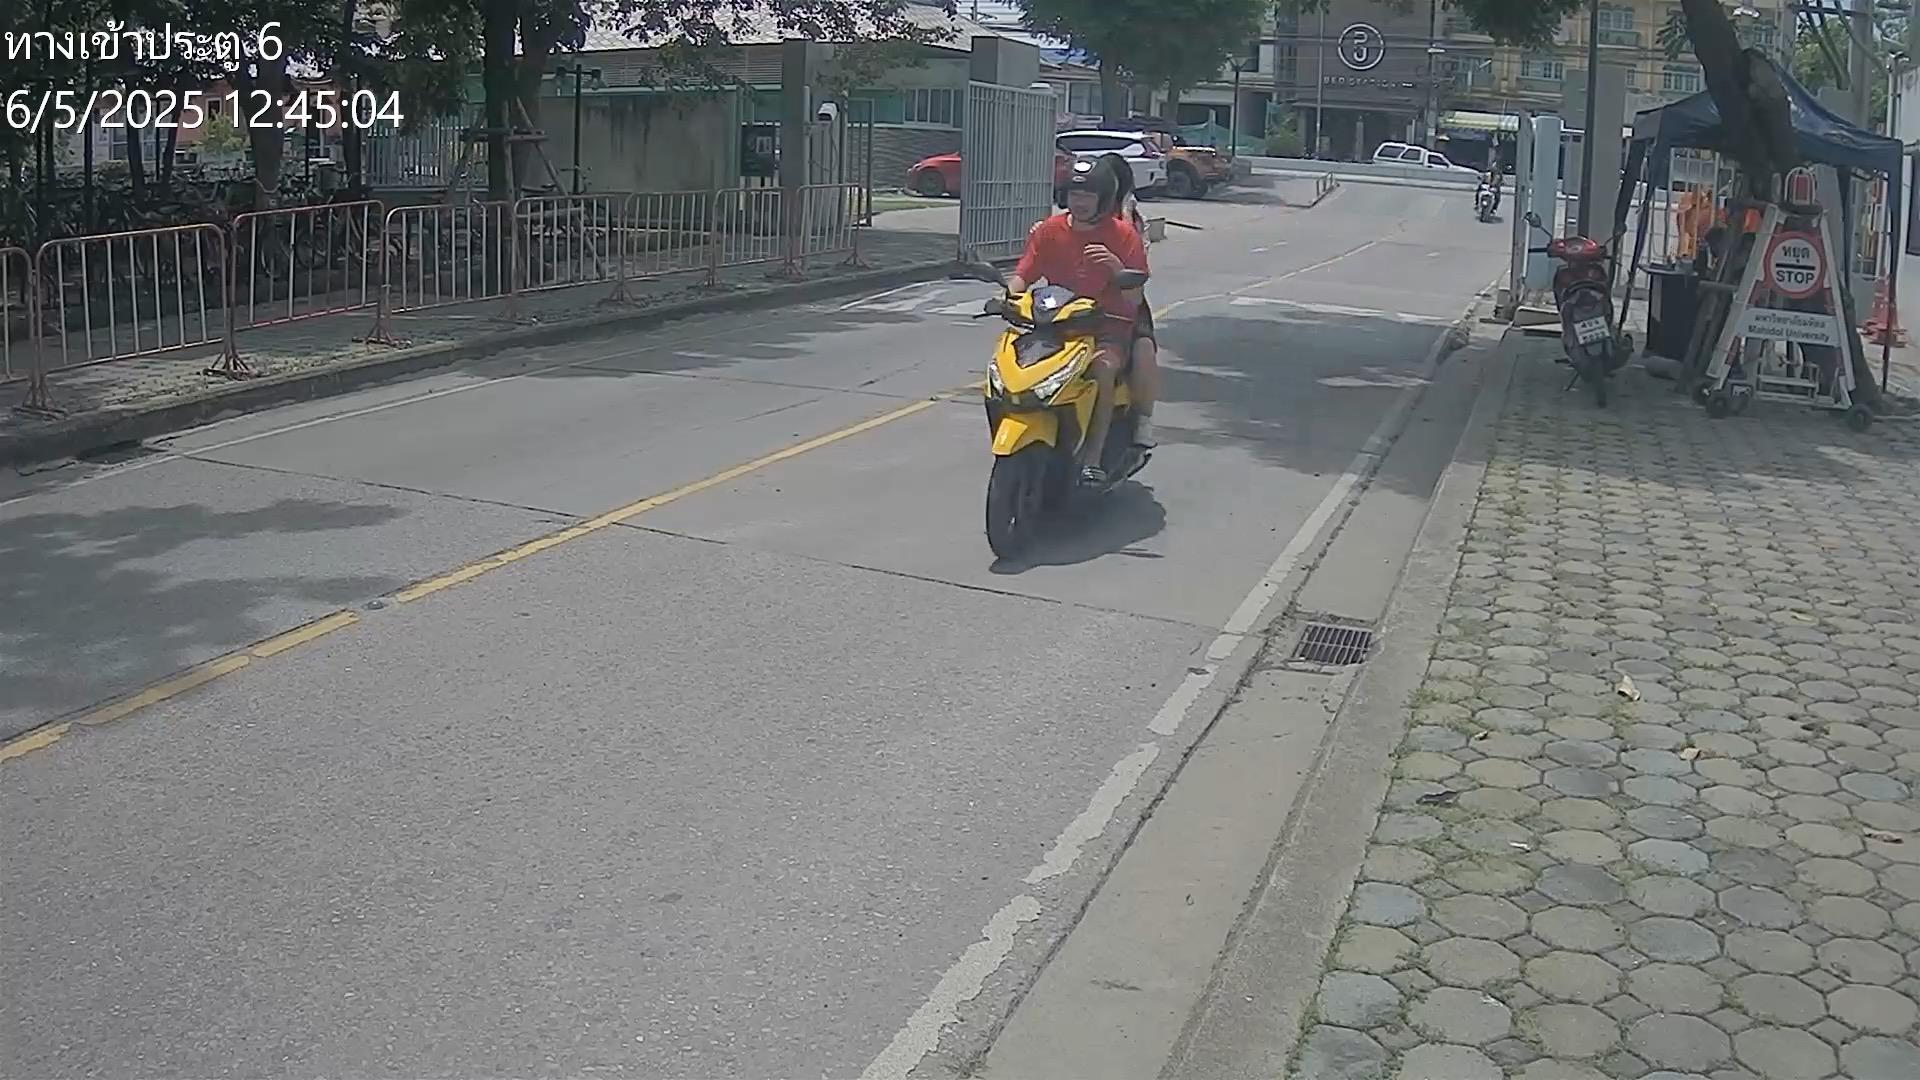With-Helmet: (1059, 153, 1114, 219)
